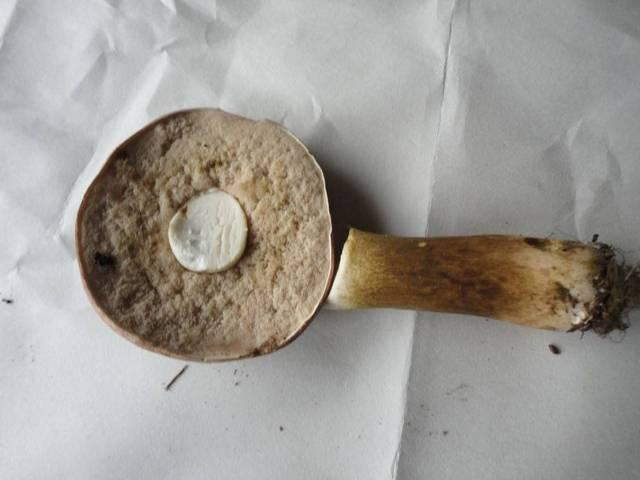Non-edible Mushroom: (74, 105, 335, 363), (322, 212, 638, 344)
